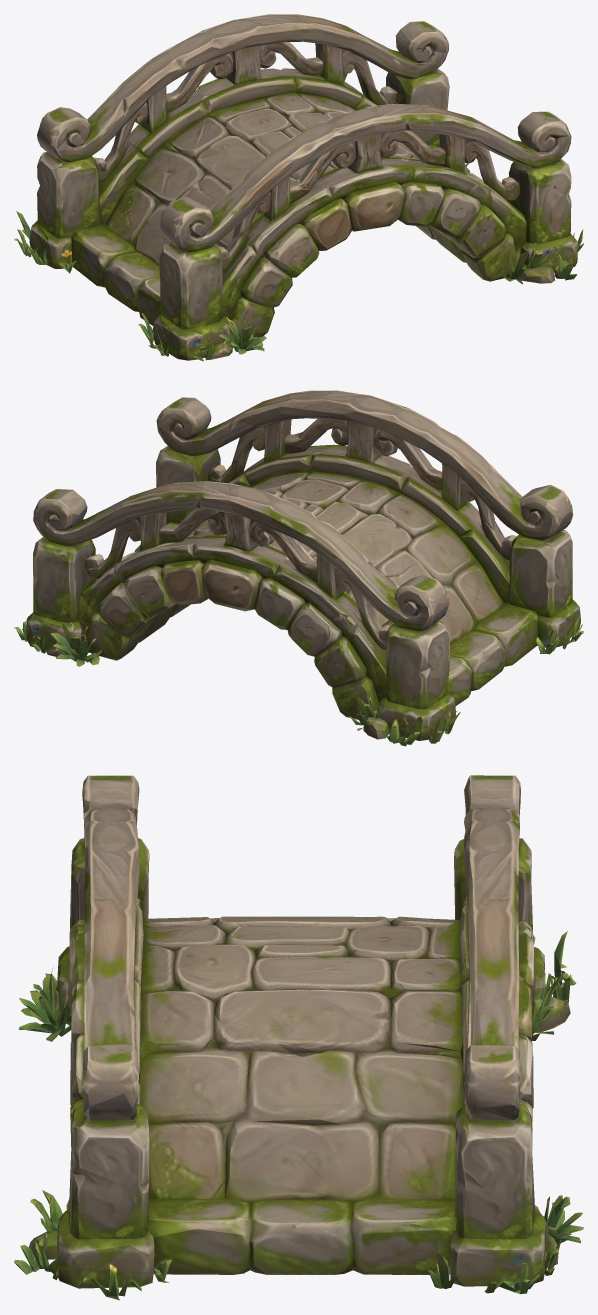
The model's file is stone_bridge.fbx.
The picture shows the model from 3 angles, top to bottom: view 1: azimuth 30°, elevation 25°; view 2: azimuth 150°, elevation 25°; view 3: azimuth 270°, elevation 25°; orthographic projection. The views are drawn at different scales.
Parts seen in each view (by area): view 1: stone_bridge; view 2: stone_bridge; view 3: stone_bridge.
Boxes of the visible parts, x1=… form: stone_bridge: x1=14, y1=14, x2=583, y2=361; stone_bridge: x1=14, y1=390, x2=583, y2=746; stone_bridge: x1=14, y1=775, x2=583, y2=1300.
Bounding box in the file's own units: 6.19 × 2.6 × 4.55.
